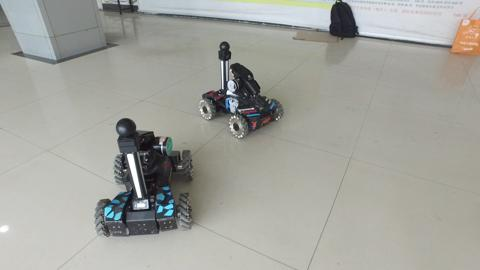chariot: (90, 118, 194, 242), (194, 39, 285, 142)
